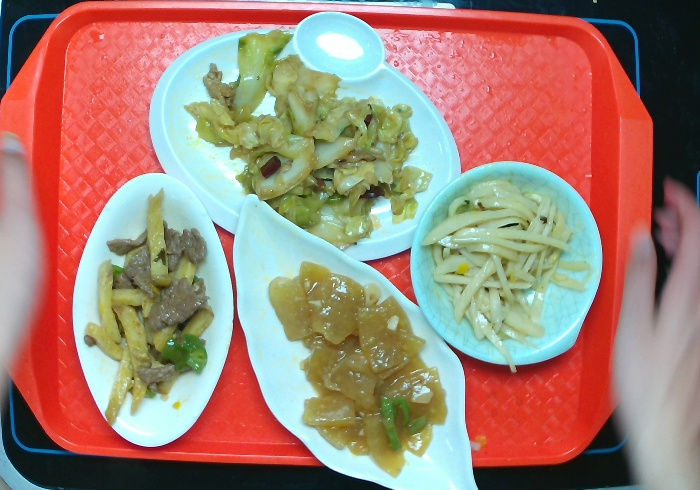RJxy-Bai_Se_Tuo_Yuan: (71, 167, 234, 450)
RJxy-Shu_Ye_Pan: (229, 189, 477, 490)
RJxy-Xiao_Jiao_Yuan_Wan: (407, 161, 603, 369)
RJxy-Zhan_Liao_Pan: (147, 10, 469, 263)
